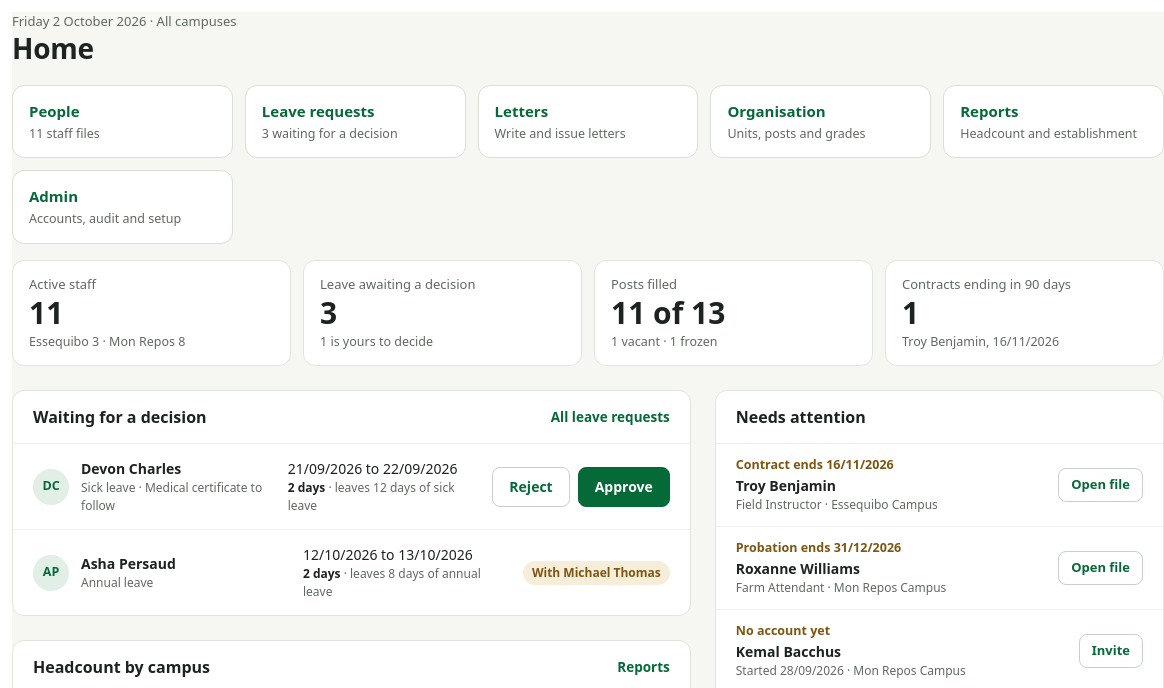
Scenario: Home for Human Resources › says when a decision did not go through
Click the button "Approve".
click(624, 487)  # box [578, 467, 670, 507]
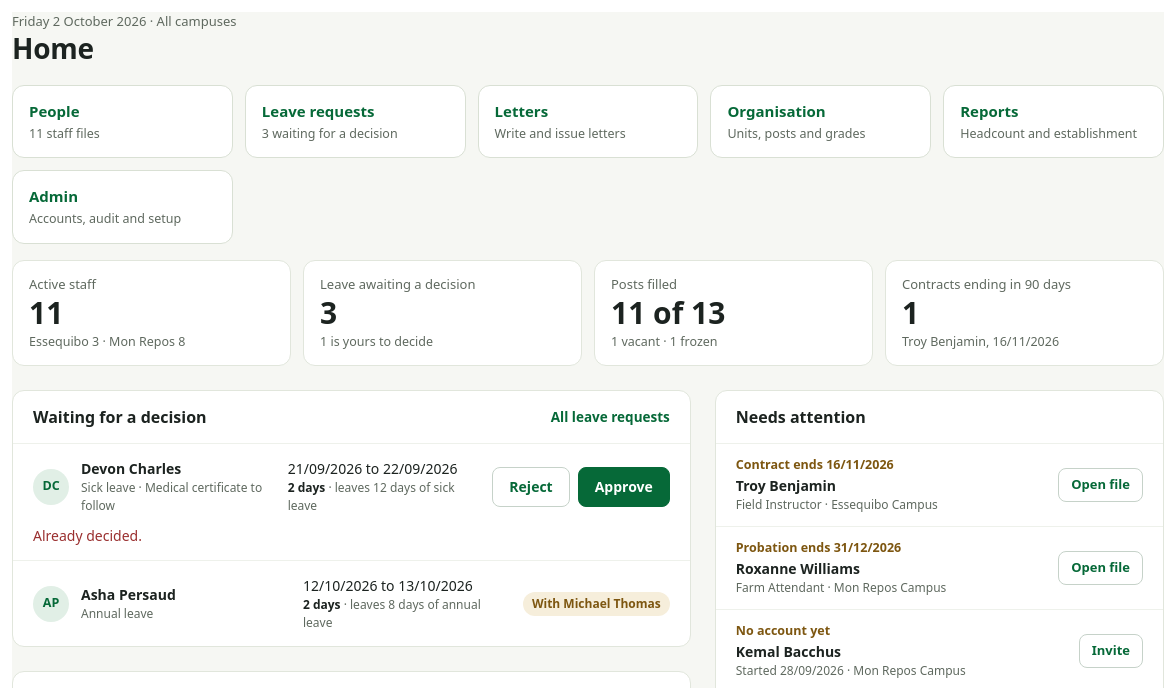
expect the message reads "Already decided.": met, box [33, 526, 142, 545]
